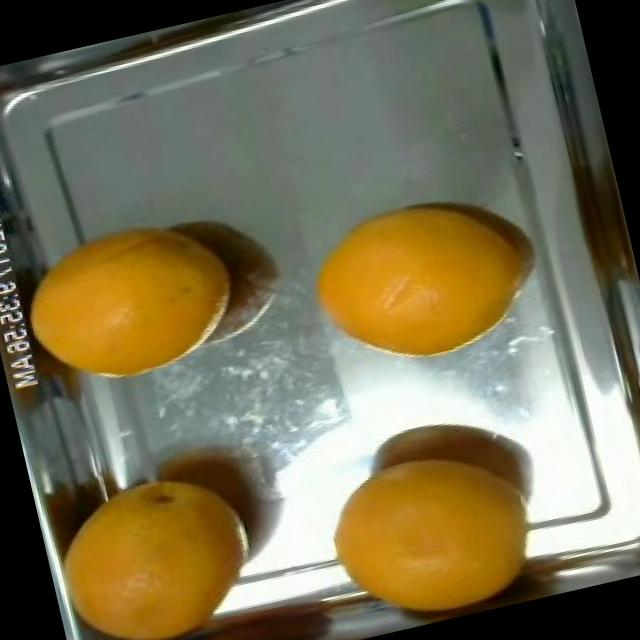Fruit: (0, 191, 247, 405)
